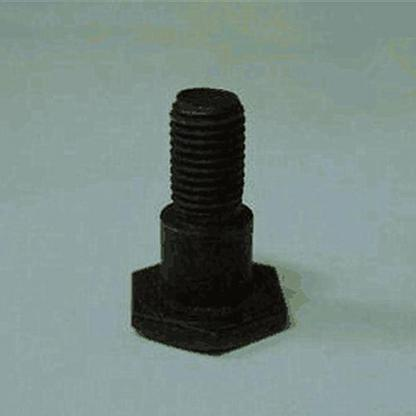FOD: (124, 78, 295, 356)
